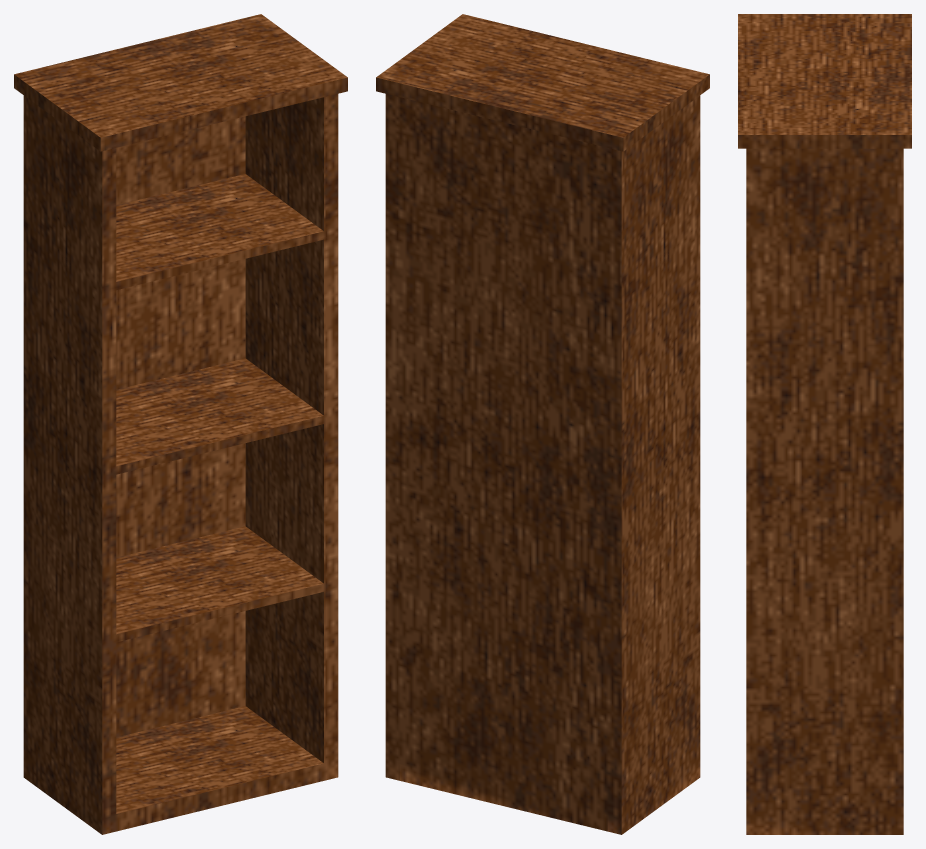
The model's file is SM_Dungeon_Shelf_Wooden_Tall.fbx.
3 views of the same model, side by side, from view 1: azimuth 30°, elevation 25°; view 2: azimuth 150°, elevation 25°; view 3: azimuth 270°, elevation 25° (orthographic).
Parts seen in each view (by area): view 1: SM_Dungeon_Shelf_Wooden_Tall; view 2: SM_Dungeon_Shelf_Wooden_Tall; view 3: SM_Dungeon_Shelf_Wooden_Tall.
Part boxes in pixels (box(x1,y1,x2,y2)): SM_Dungeon_Shelf_Wooden_Tall: box(14, 14, 347, 834); SM_Dungeon_Shelf_Wooden_Tall: box(376, 14, 709, 834); SM_Dungeon_Shelf_Wooden_Tall: box(738, 14, 911, 834).
Size of the model in its own units: 83.21 by 226 by 50.54.
